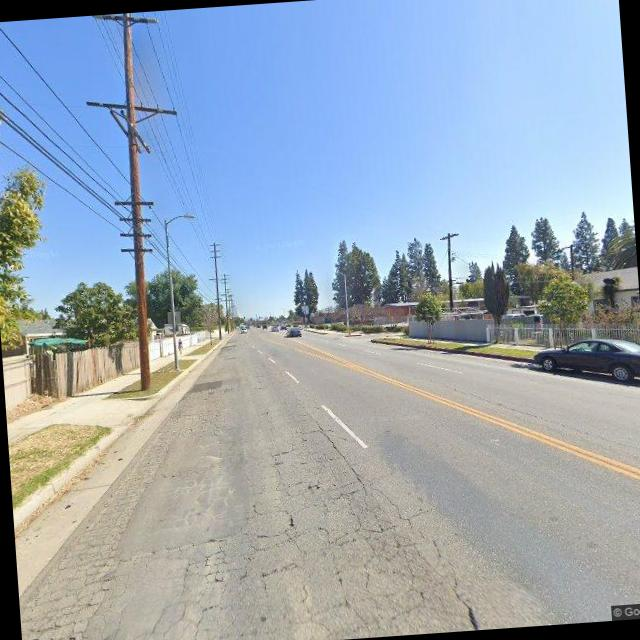crack: (8, 415, 465, 640), (448, 371, 580, 440)
